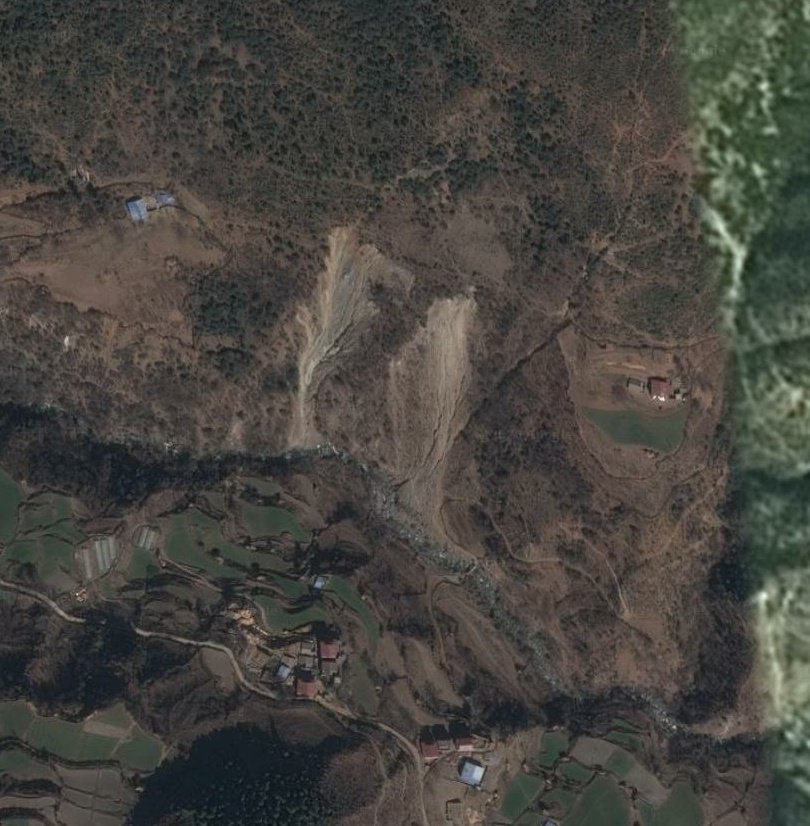slope: (278, 221, 420, 454), (380, 290, 487, 550)
